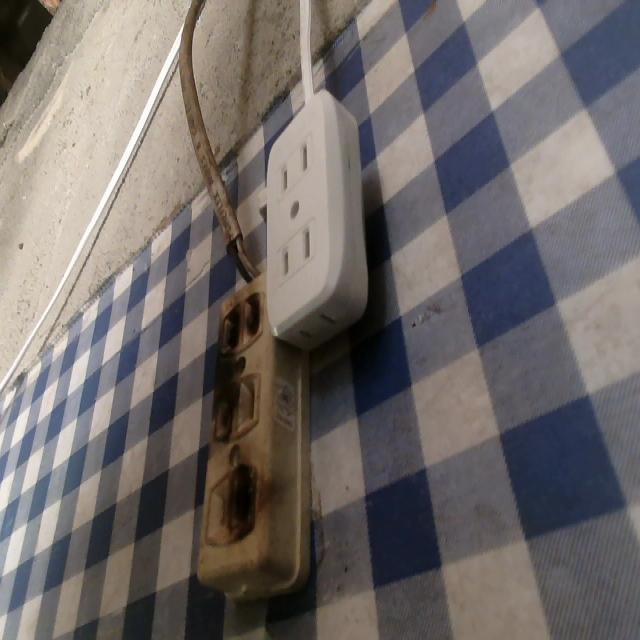-: (221, 463, 266, 544), (214, 289, 268, 352), (203, 375, 244, 449)
